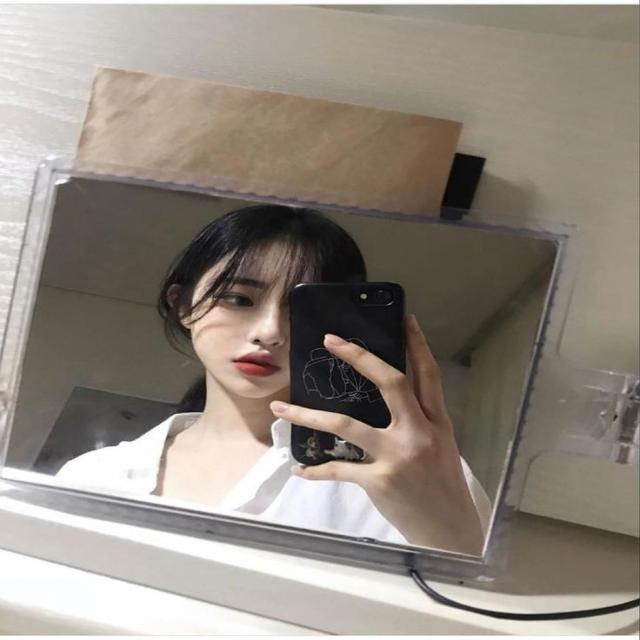phone: (289, 282, 410, 466)
